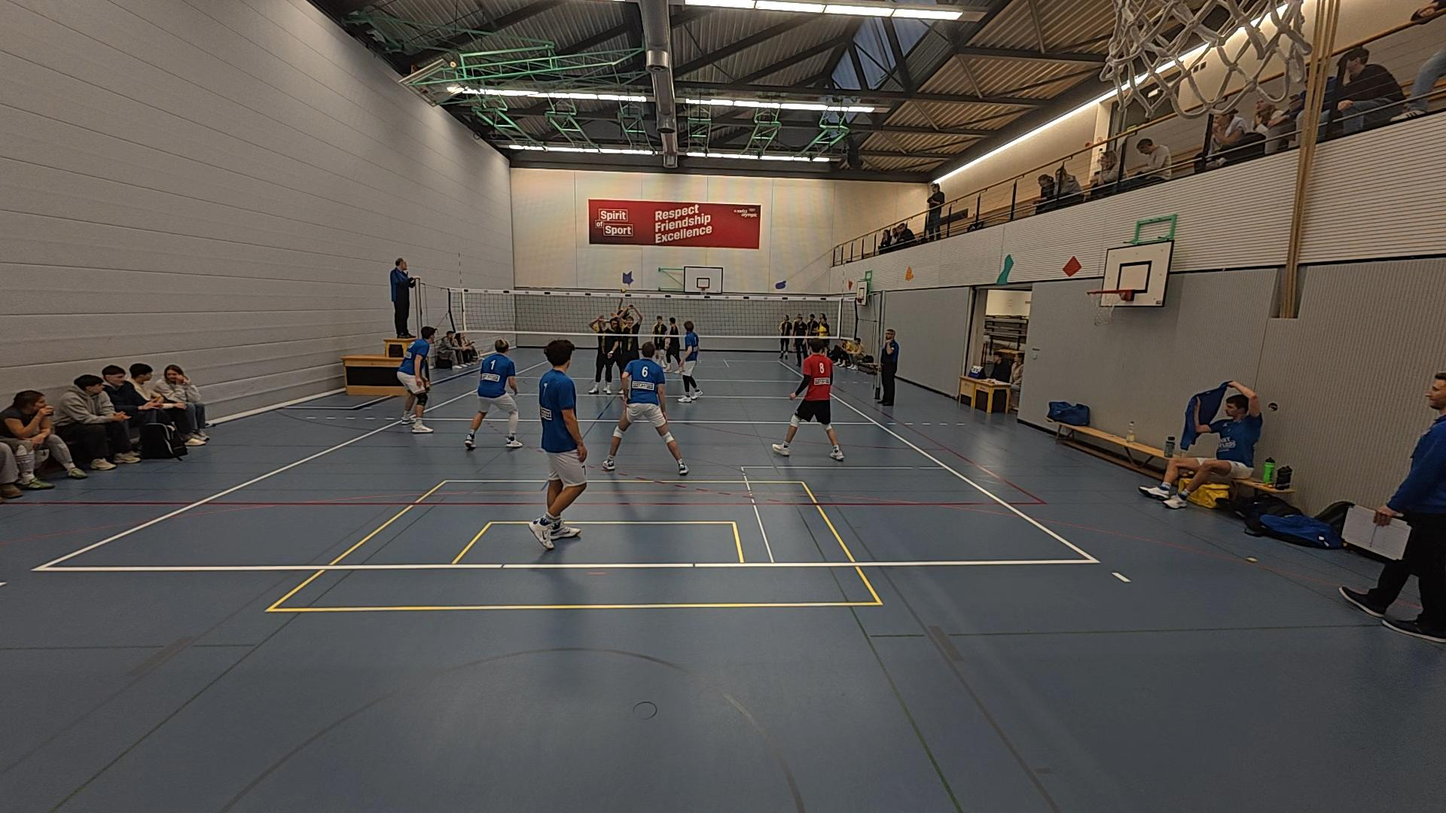Player: (532, 340, 589, 549), (601, 343, 688, 475), (772, 336, 842, 461), (465, 340, 523, 450), (398, 326, 435, 433), (590, 315, 624, 397), (610, 306, 641, 394), (676, 319, 703, 402), (586, 316, 608, 391), (662, 313, 686, 375), (651, 314, 668, 373)
Serve: (614, 285, 632, 317)
ball: (619, 287, 628, 295)
